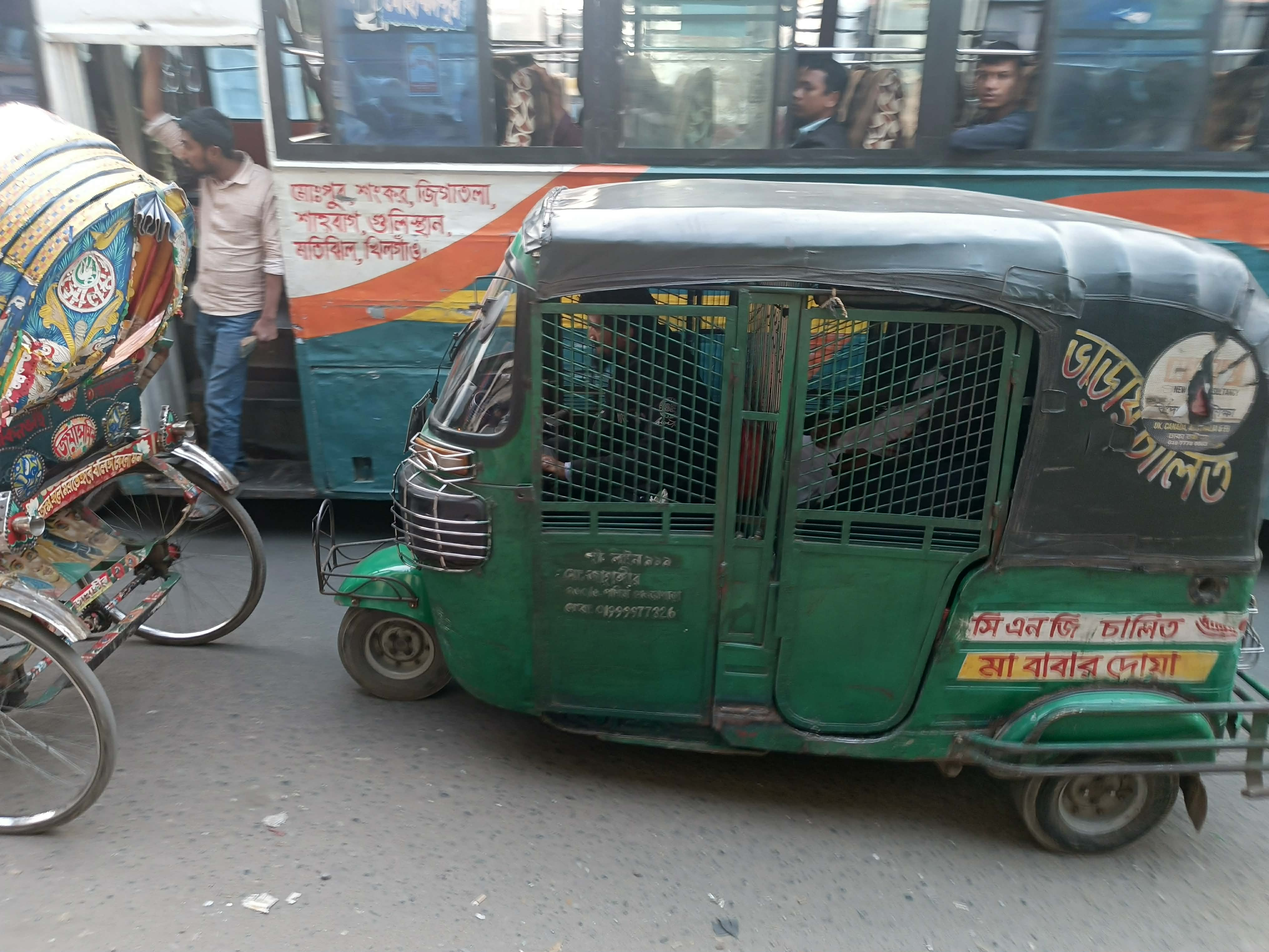auto-ricksaw: (3, 70, 270, 879)
cng: (290, 167, 1269, 877)
